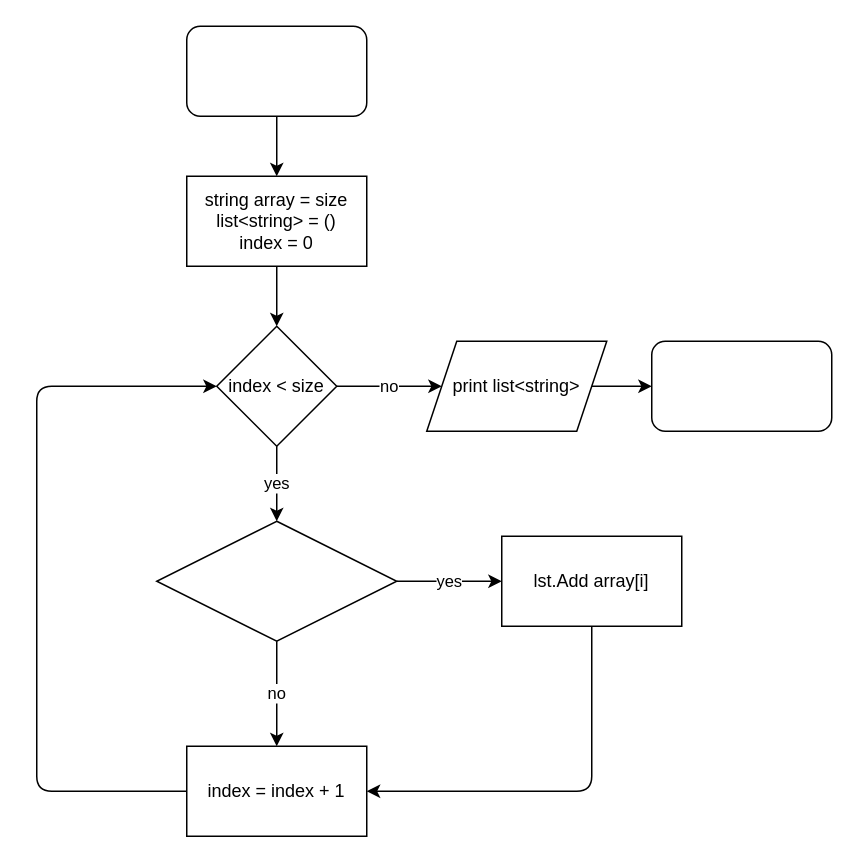
This 858x863 diagram has some shape labels left out. Here are the shapes that lost their labels. From the top down, the centre of each, then its label:
At pixel 276 70: "Start".
At pixel 741 385: "End".
At pixel 276 580: "array[i].Length <= 3".
